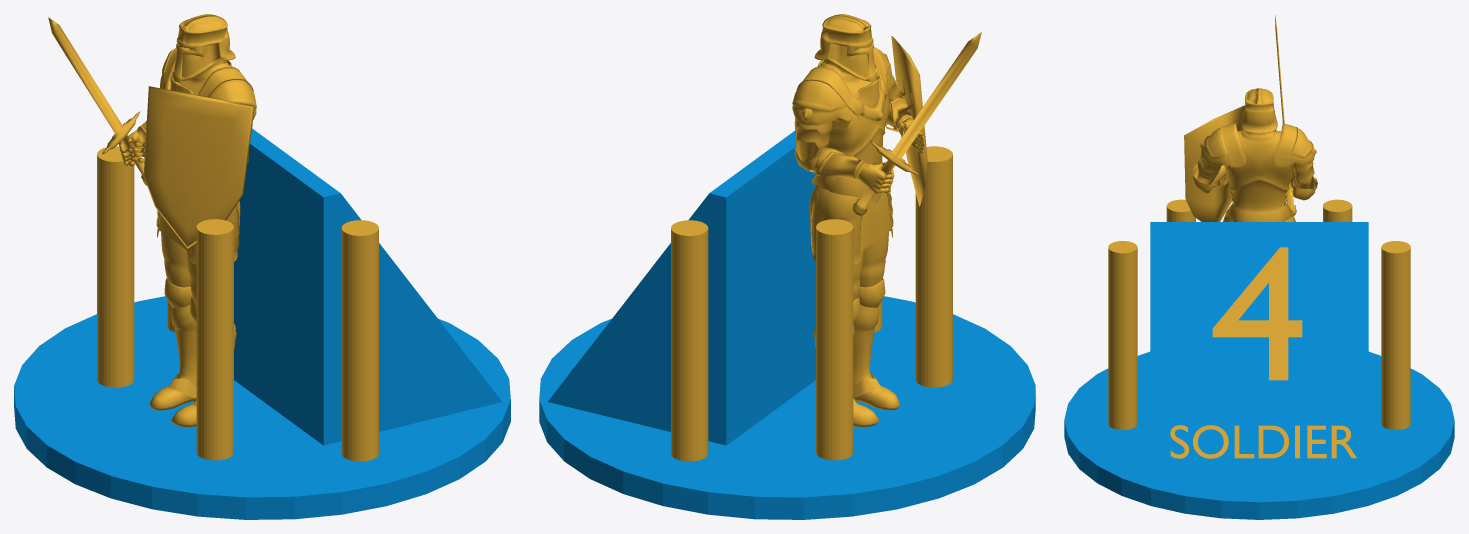
Rendered from TCSoldier4.fbx.
3 renders of one model, left to right at view 1: azimuth 30°, elevation 25°; view 2: azimuth 150°, elevation 25°; view 3: azimuth 270°, elevation 25°, orthographic. The views are drawn at different scales.
Parts seen in each view (by area): view 1: Soldier4; view 2: Soldier4; view 3: Soldier4.
Boxes of the visible parts, x1,y1,x2,y2 form: Soldier4: (14,14,510,519); Soldier4: (539,14,1035,519); Soldier4: (1064,15,1454,519).
Bounding box in the file's own units: 180 × 176 × 180.
